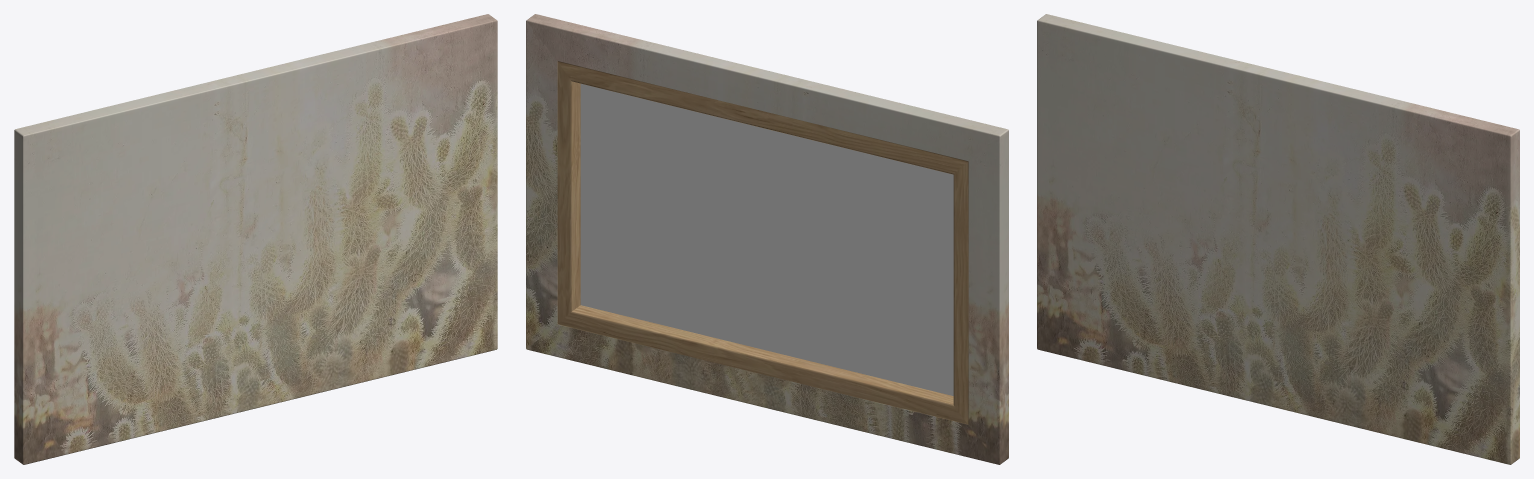
File: abo-B073P19TKD.glb
3 renders of one model, left to right at view 1: azimuth 30°, elevation 25°; view 2: azimuth 150°, elevation 25°; view 3: azimuth 330°, elevation 25°, orthographic.
Bounding box in the file's own units: 1.14 × 0.758 × 0.041.
Materials: 1 (1 with a texture image).
